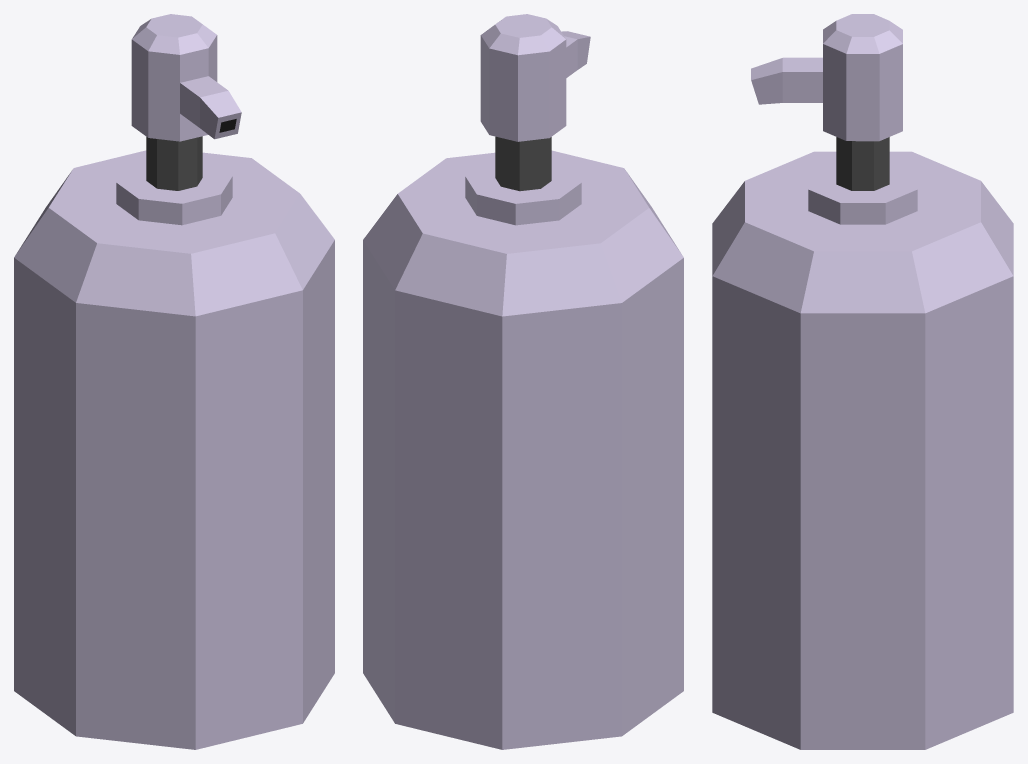
Rendered from KitchenProps_01.fbx.
The picture shows the model from 3 angles, left to right: view 1: azimuth 30°, elevation 25°; view 2: azimuth 150°, elevation 25°; view 3: azimuth 270°, elevation 25°; orthographic projection.
Parts seen in each view (by area): view 1: KitchenProps_01; view 2: KitchenProps_01; view 3: KitchenProps_01.
Part boxes in pixels (x1,y1,x2,y2): KitchenProps_01: [14, 14, 334, 749]; KitchenProps_01: [363, 14, 683, 749]; KitchenProps_01: [712, 14, 1013, 749].
Bounding box in the file's own units: 5.76 × 13.96 × 5.76.
